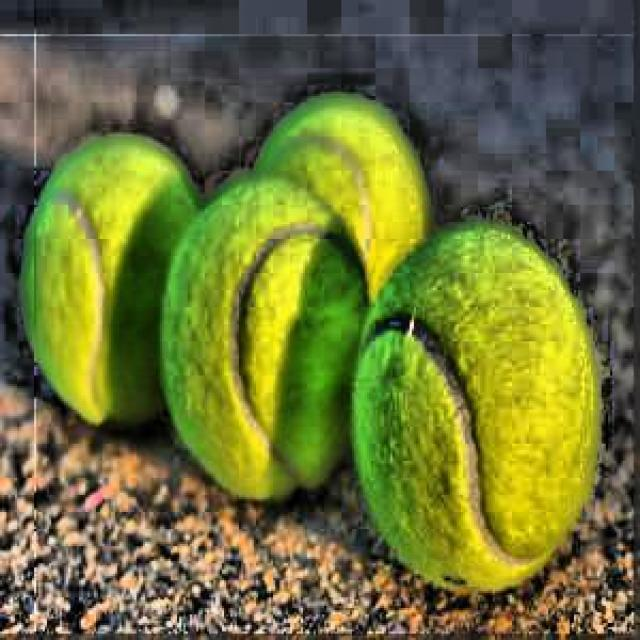tennis-ball: (351, 213, 605, 589), (162, 171, 371, 497), (24, 134, 201, 426), (254, 98, 436, 288)
